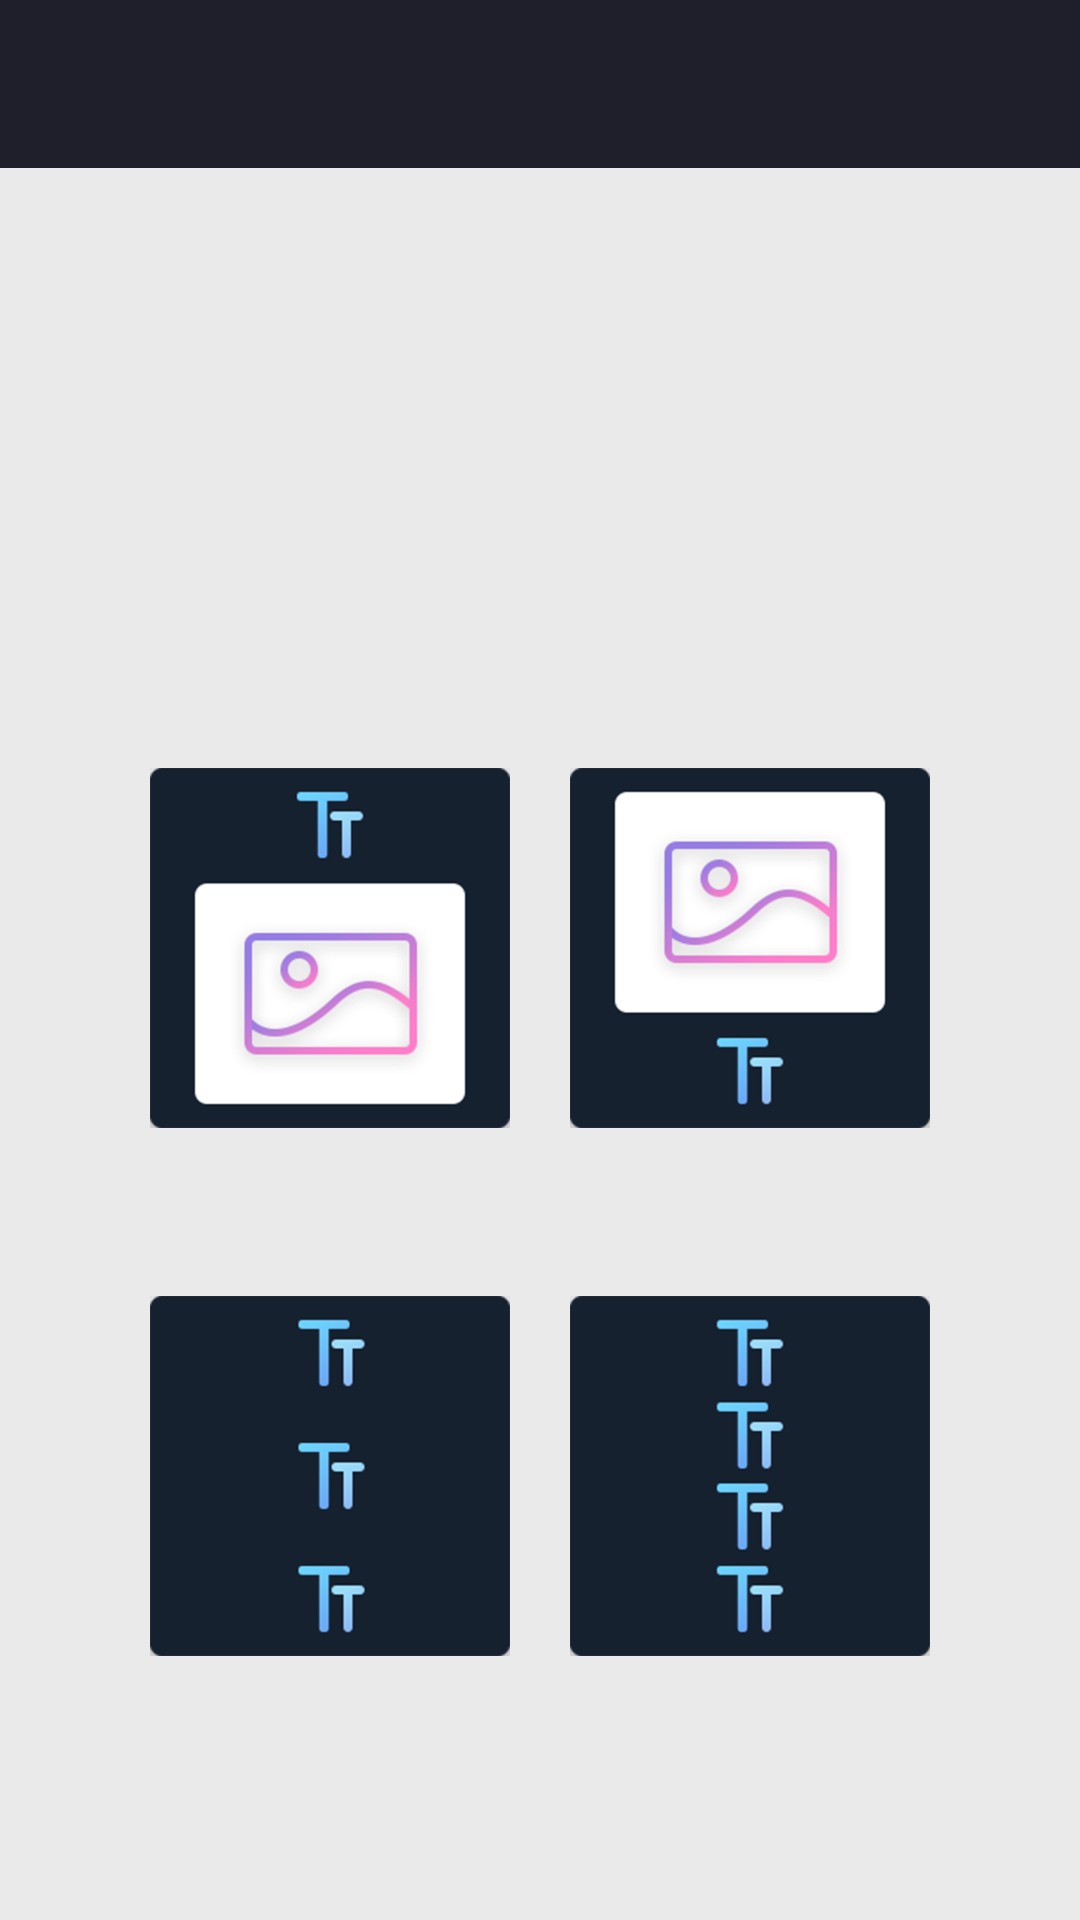

Icon click points for this 1080×1920 phone screenshot, format [x,y]:
bottom text: [750,948]
four text: [750,1476]
three text: [330,1476]
top text: [330,948]
